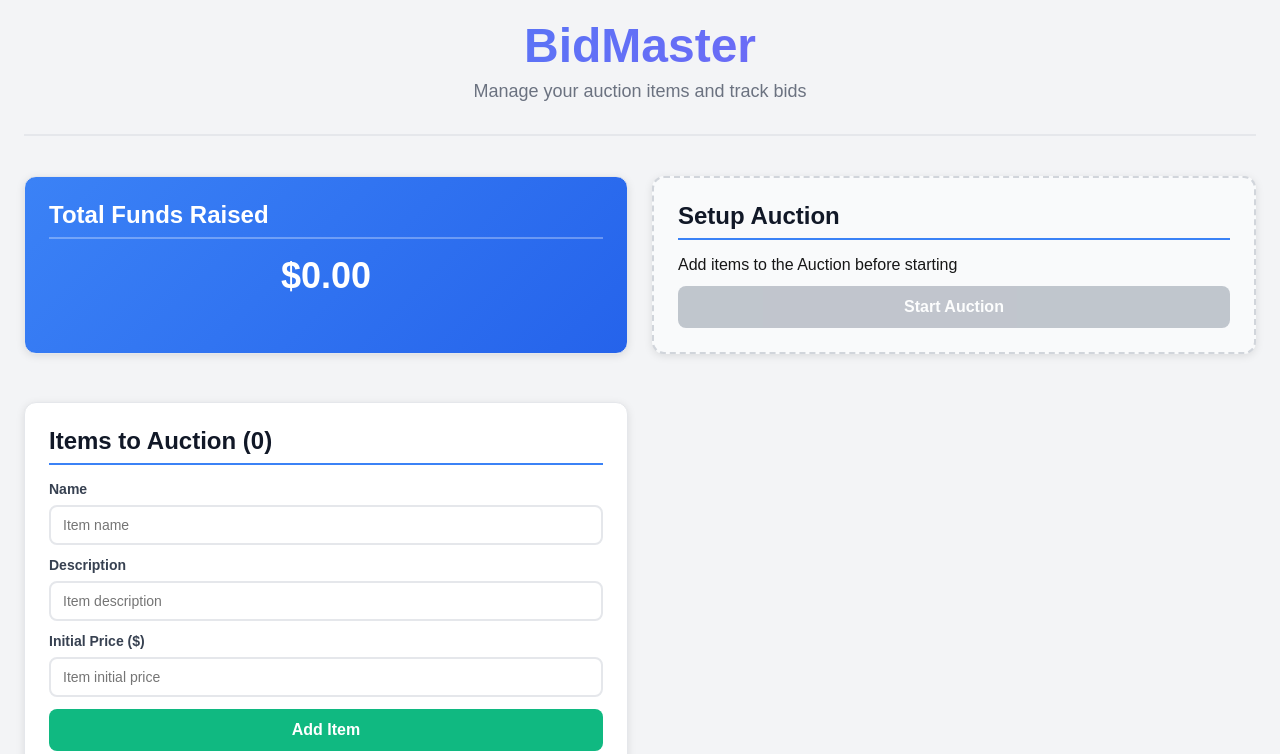
Test: Cannot Sell Item Without Bids
Type "Test Item" into the field with test id "new-item-name" at (326, 525), box [49,505,603,545]
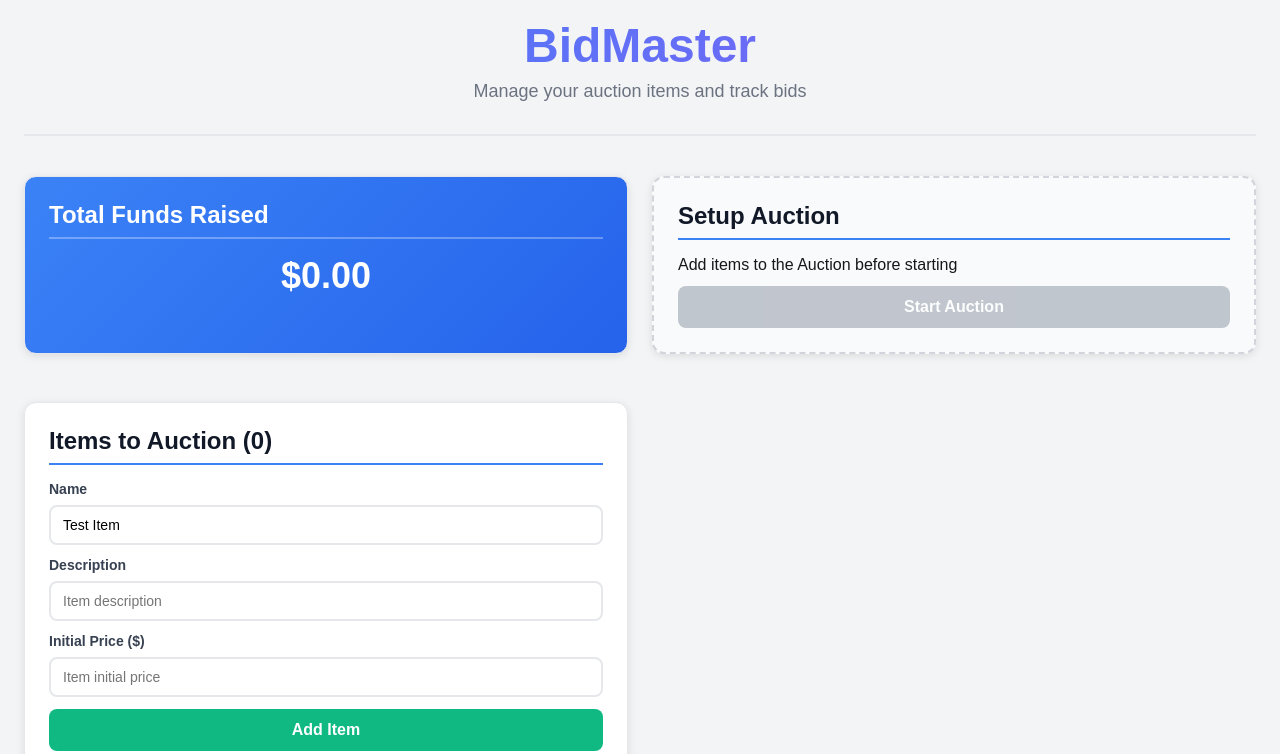
Type "Test Description" into the field with test id "new-item-description" at (326, 601), box [49,581,603,621]
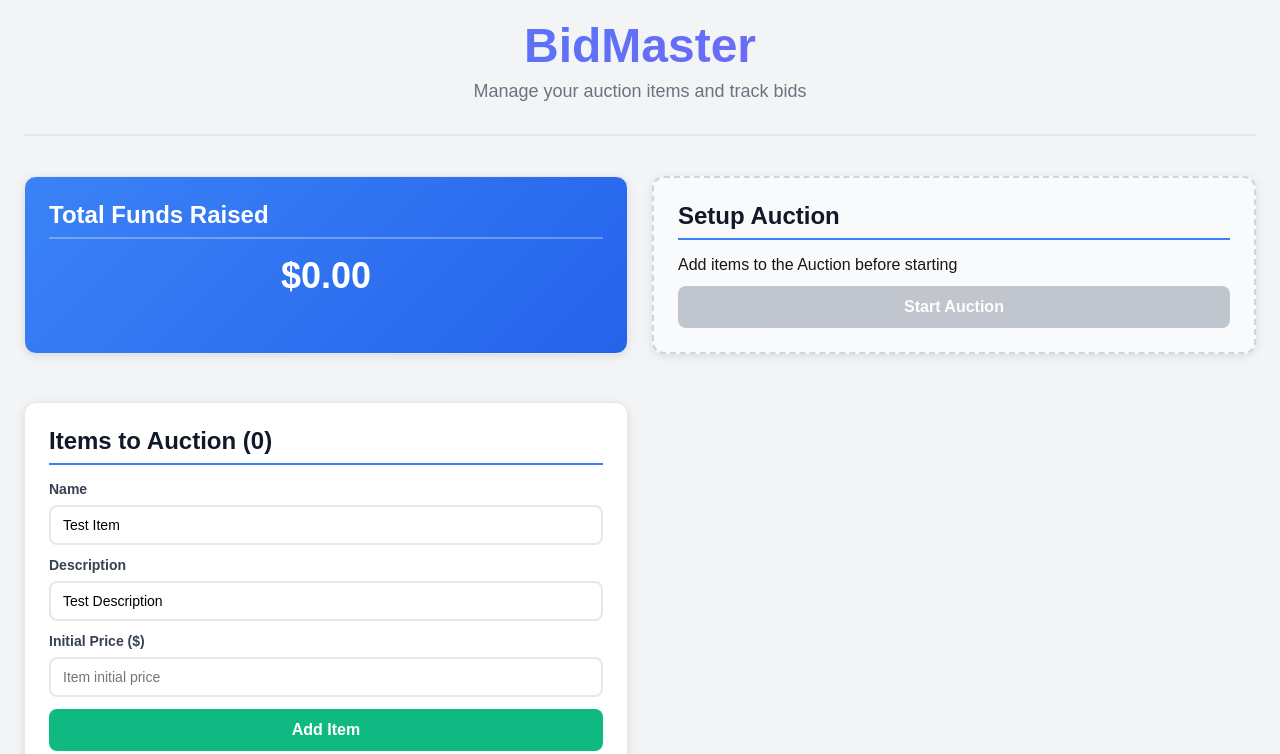
Type "100" into the number field with test id "new-item-initial-price" at (326, 677), box [49,657,603,697]
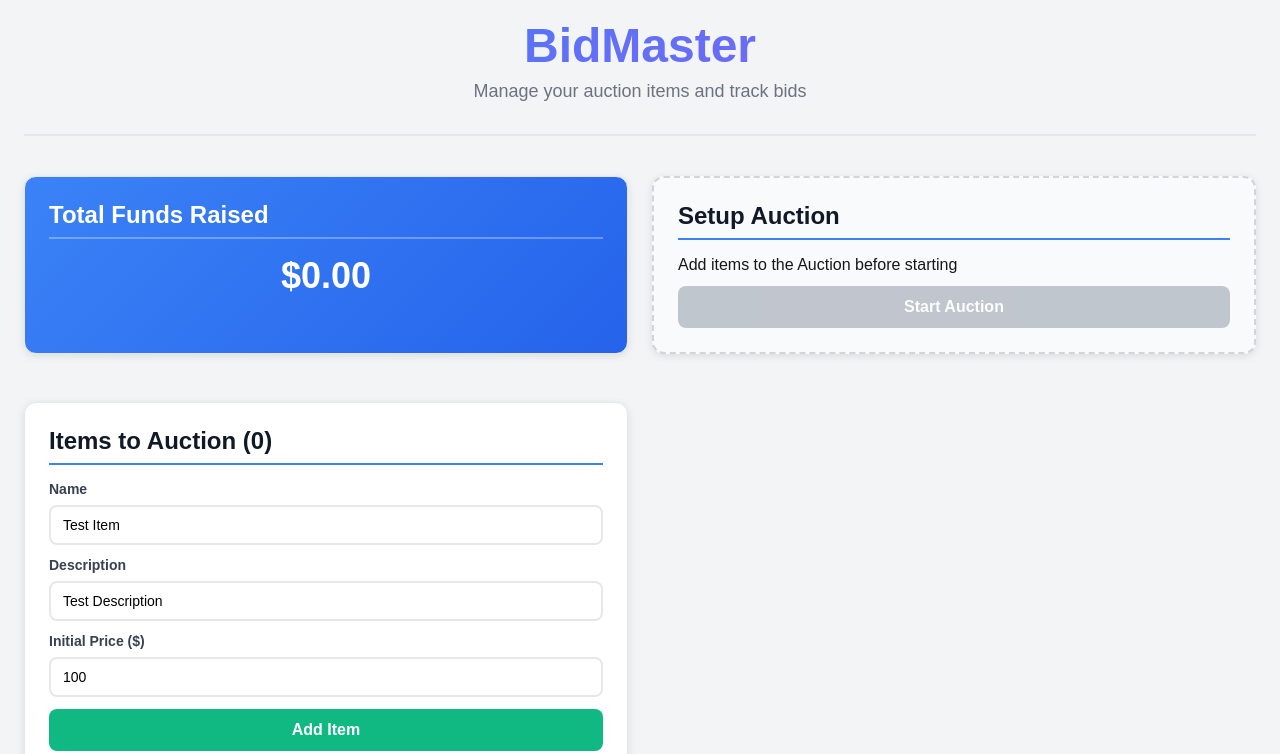
Click the button "Add Item" at (326, 730), box [49,709,603,751]
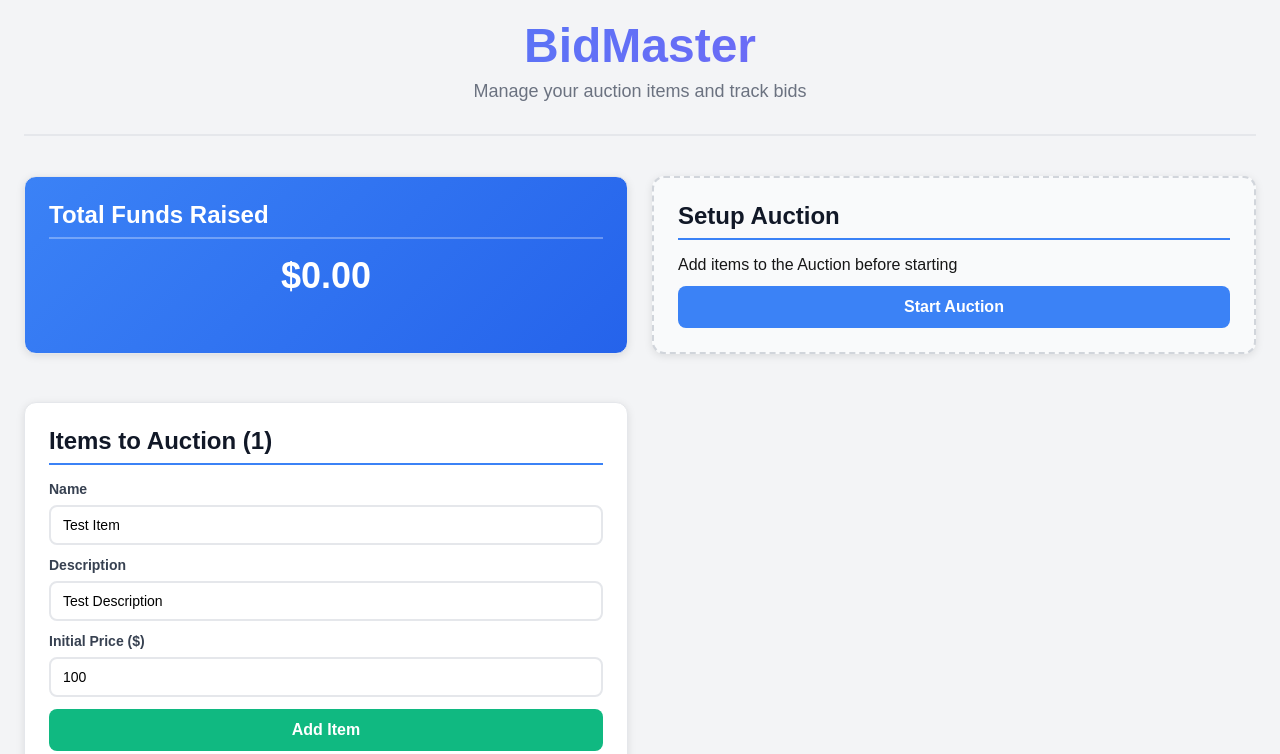
Click the button with test id "start-auction-button" at (954, 307), box [678,286,1230,328]
(page scrolled)
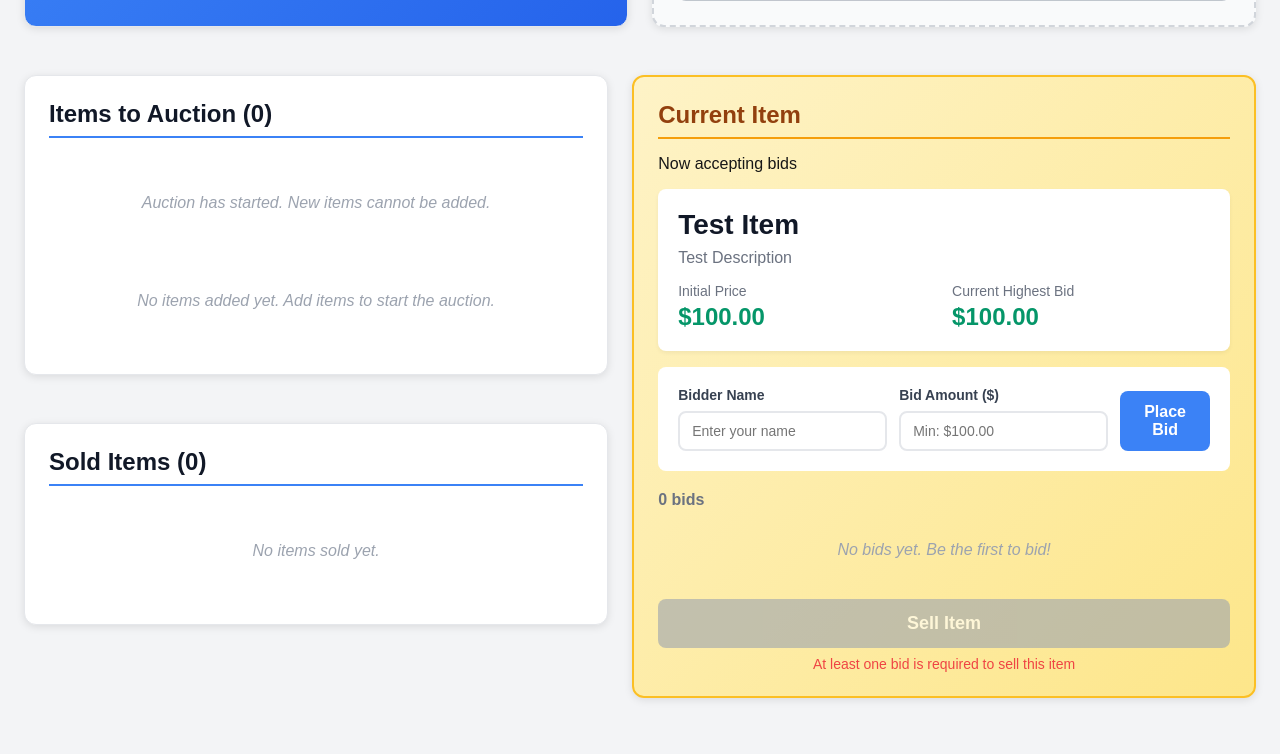
expect the button with test id "sell-item-button" is disabled: met, box [658,599,1230,648]
expect the text "At least one bid is required to sell this item" is shown: met, box [813,656,1075,672]
